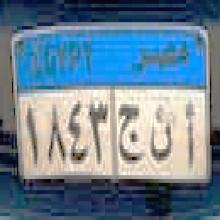1: (24, 100, 40, 175)
3: (88, 98, 109, 165)
4: (68, 95, 87, 164)
8: (46, 102, 66, 169)
alif: (182, 98, 196, 172)
jeem: (118, 100, 145, 173)
noon: (149, 106, 173, 170)
